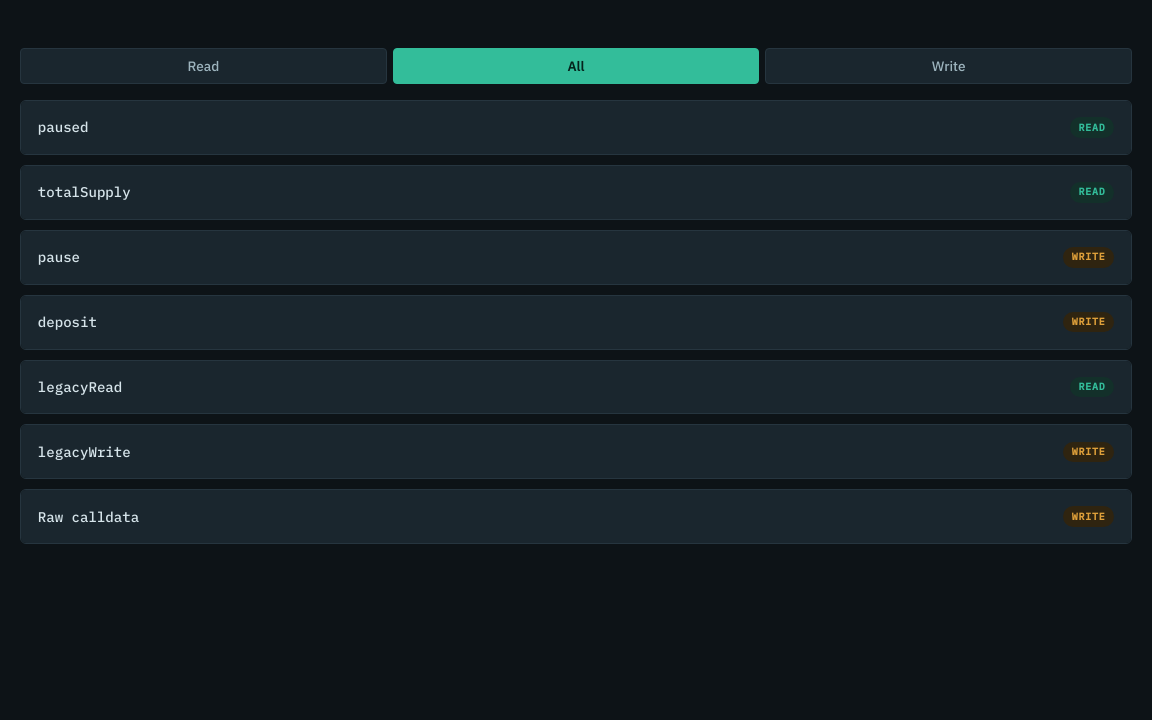
the All / Read / Write filter › Write shows nonpayable, payable and legacy non-constant functions only
What coordinates should you click on to do the following:
click the button "Write"
I would click on:
 (949, 66)
Its box is [765, 48, 1132, 84].
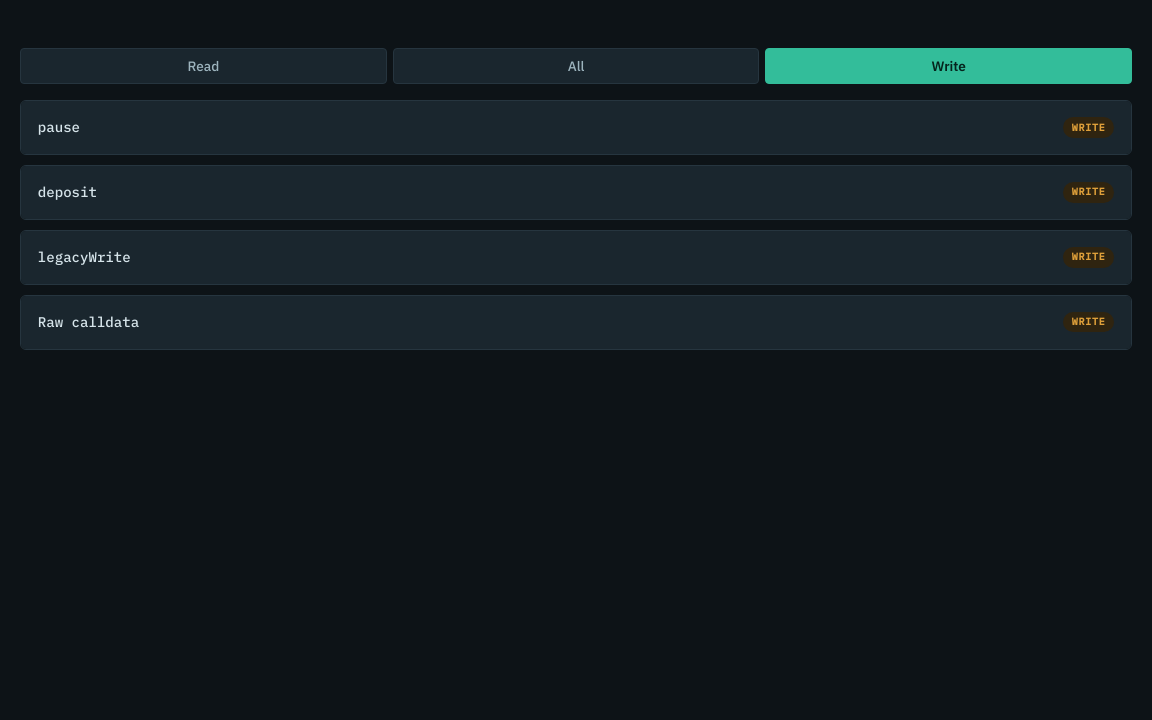
Check: the text "paused" is gone
Check: the text "totalSupply" is gone
Check: the text "legacyRead" is gone
